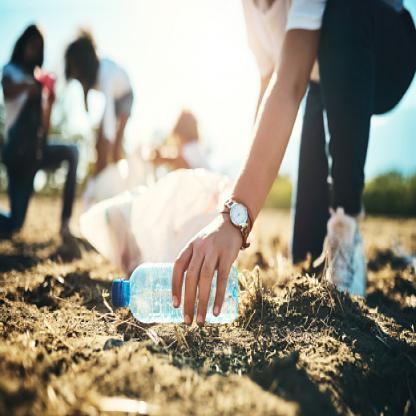Plastic: (110, 259, 243, 331)
